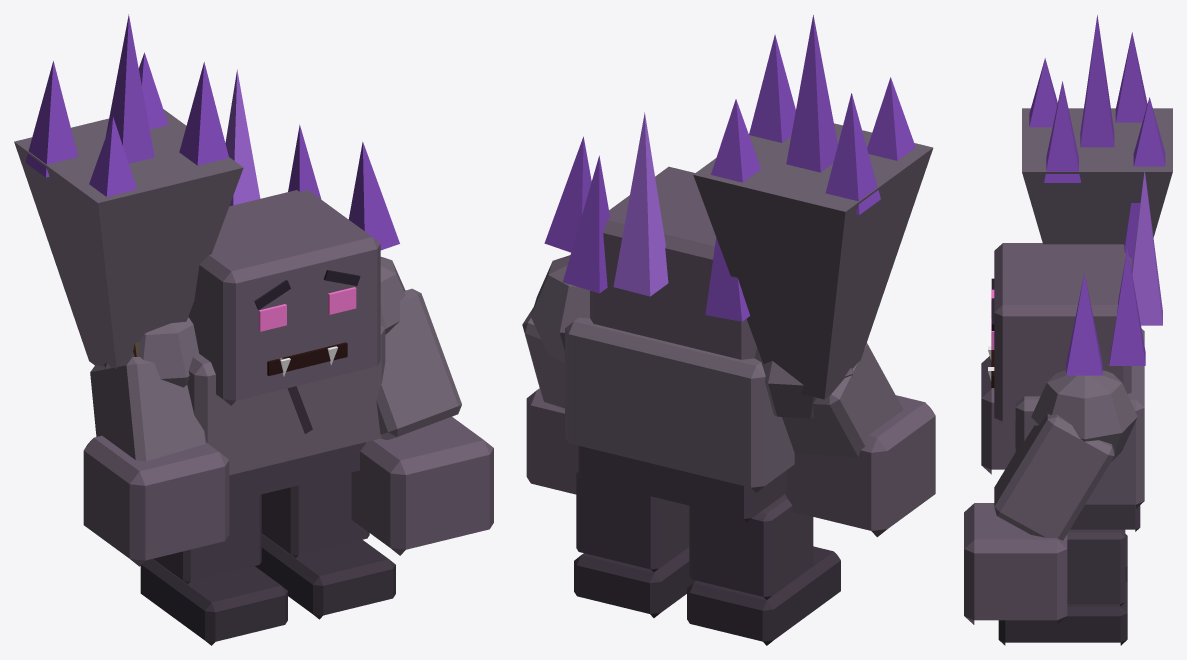
The model's file is r12_mini_geode_crusher.glb.
3 views of the same model, side by side, from view 1: azimuth 30°, elevation 25°; view 2: azimuth 150°, elevation 25°; view 3: azimuth 270°, elevation 25° (orthographic). The views are drawn at different scales.
Visible parts, largest first — view 1: r12_mini_geode_crusher_mesh; view 2: r12_mini_geode_crusher_mesh; view 3: r12_mini_geode_crusher_mesh.
Boxes of the visible parts, box(x1,y1,x2,y2) form: r12_mini_geode_crusher_mesh: box(14, 14, 493, 645); r12_mini_geode_crusher_mesh: box(522, 15, 935, 645); r12_mini_geode_crusher_mesh: box(964, 15, 1172, 645).
Bounding box in the file's own units: 2.7 × 4.2 × 1.47.
Materials: 1 (1 with a texture image).
